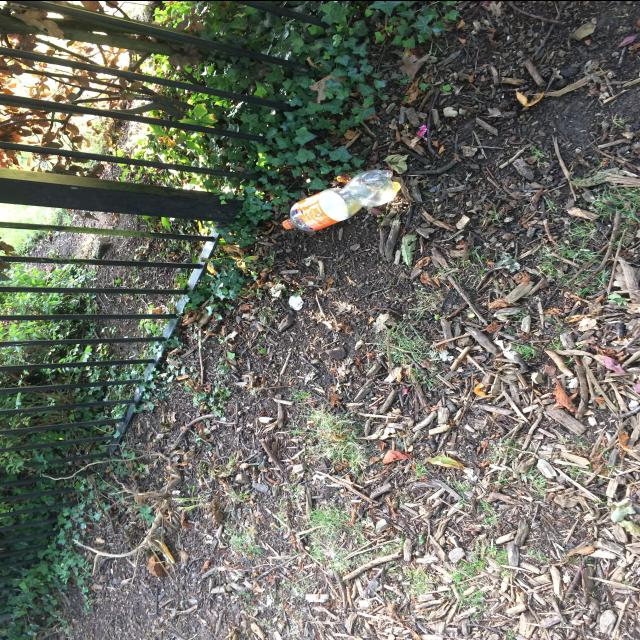寶特瓶: (286, 160, 398, 242)
